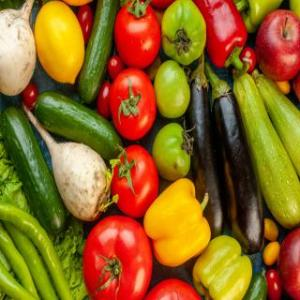bell_pepper: (142, 177, 212, 268), (192, 232, 248, 300)
cucumber: (0, 107, 68, 233), (35, 84, 132, 158), (82, 0, 120, 106)
eggplant: (211, 68, 265, 254), (188, 56, 222, 244)
tomato: (81, 212, 151, 300), (113, 144, 159, 219), (112, 66, 156, 142), (160, 0, 206, 68), (153, 122, 194, 176), (158, 65, 192, 114)
zucchini: (235, 74, 300, 226), (255, 68, 300, 176)
